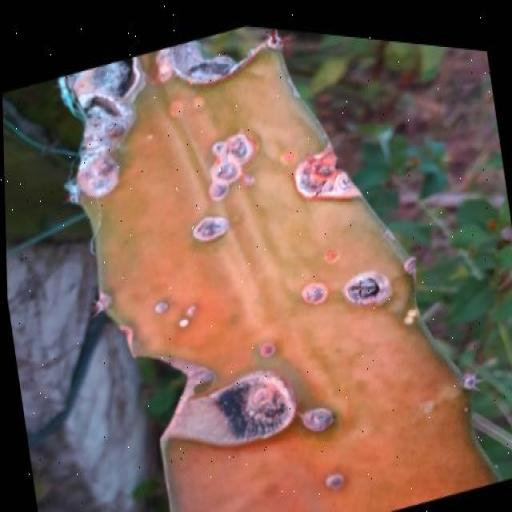stemcanker: (318, 465, 351, 497), (300, 276, 330, 310), (178, 302, 204, 338), (256, 335, 281, 367), (321, 240, 343, 270), (280, 144, 298, 168), (151, 298, 172, 318), (240, 171, 258, 191), (144, 127, 157, 146)
